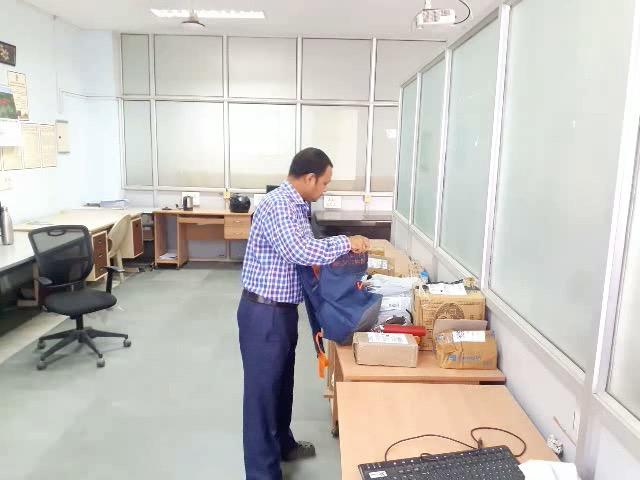shoplifting: (188, 203, 434, 324)
